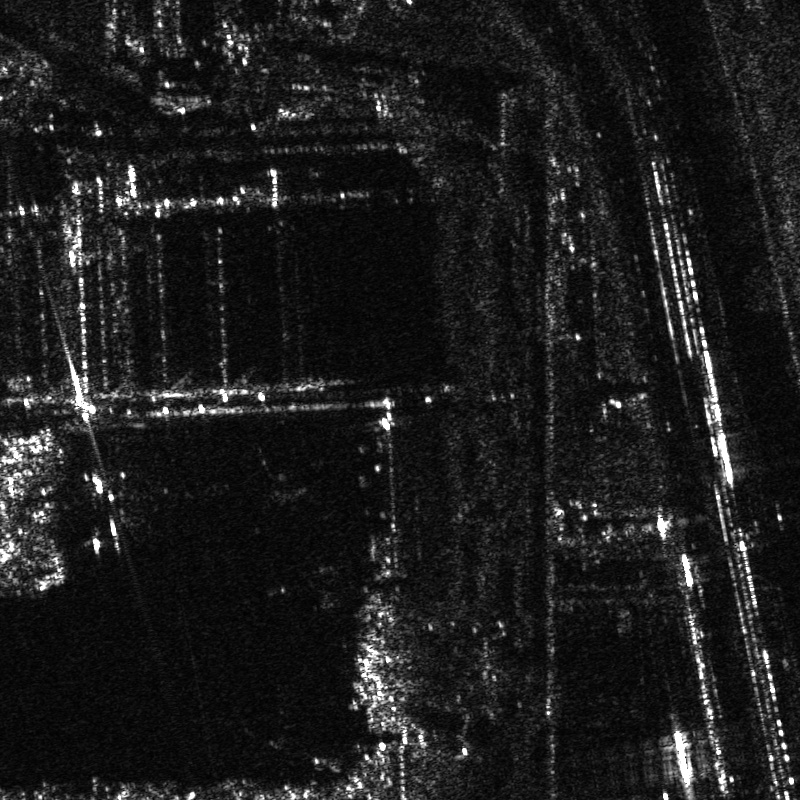Boeing737: (61, 464, 151, 558)
